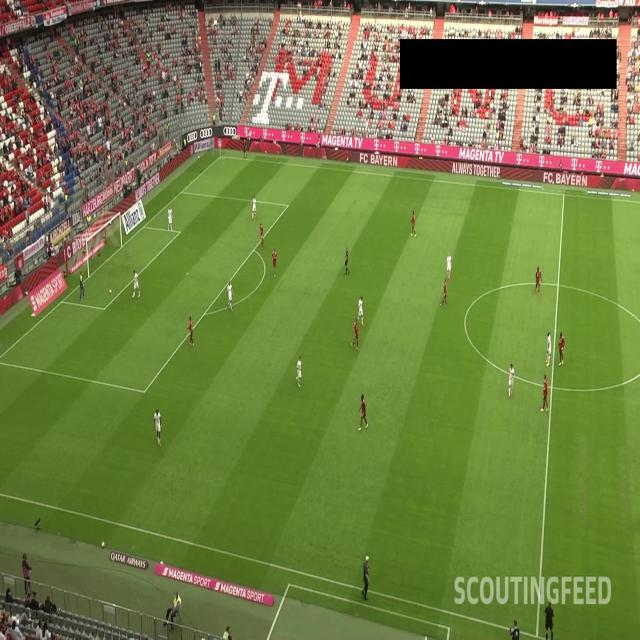ball: (108, 286, 112, 296)
player: (355, 390, 370, 434), (150, 406, 164, 448), (357, 287, 368, 327), (505, 360, 516, 400), (544, 328, 554, 368), (129, 265, 141, 298), (556, 330, 566, 369), (350, 317, 361, 352), (223, 278, 235, 310), (294, 351, 304, 387), (541, 370, 549, 415), (407, 208, 418, 240), (268, 244, 278, 279), (185, 313, 195, 346), (76, 270, 86, 302), (533, 264, 543, 296), (446, 248, 454, 284), (165, 202, 174, 231), (250, 193, 258, 222), (441, 276, 448, 309), (258, 222, 265, 249)
referee: (540, 594, 558, 640), (342, 243, 350, 275), (240, 133, 248, 161)
